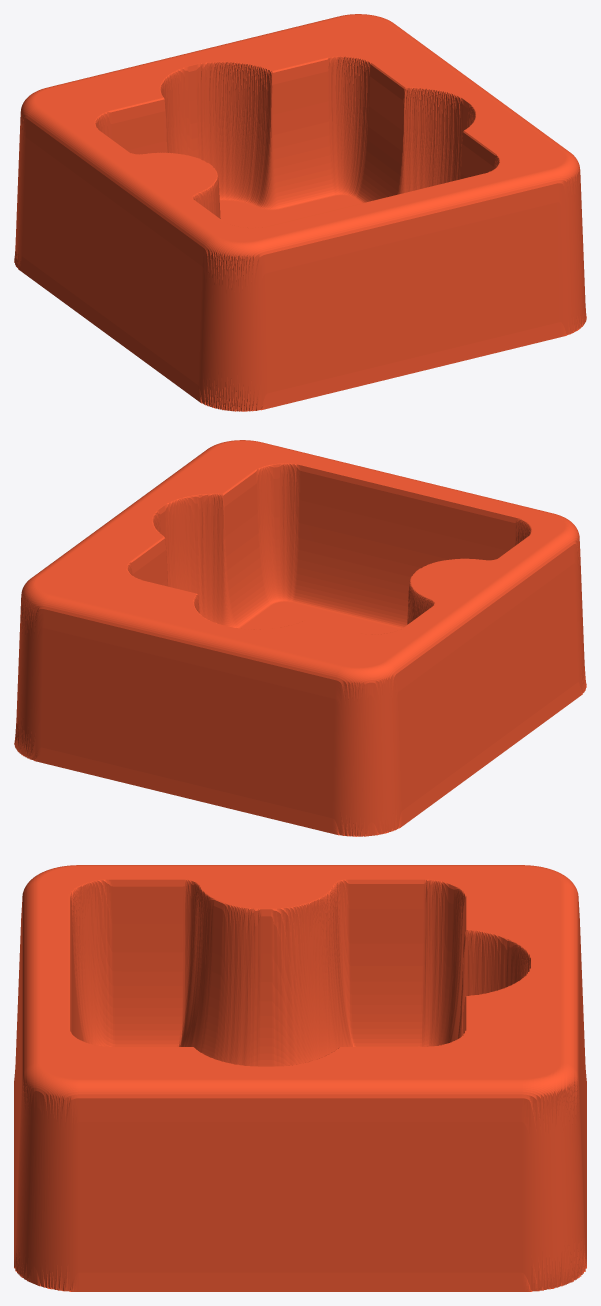
The model's file is mold.glb.
3 renders of one model, top to bottom at view 1: azimuth 30°, elevation 25°; view 2: azimuth 150°, elevation 25°; view 3: azimuth 270°, elevation 25°, orthographic. The views are drawn at different scales.
Parts seen in each view (by area): view 1: geometry_0; view 2: geometry_0; view 3: geometry_0.
Boxes of the visible parts, x1,y1,x2,y2 form: geometry_0: [14, 14, 586, 411]; geometry_0: [14, 440, 586, 836]; geometry_0: [14, 865, 586, 1291].
Bounding box in the file's own units: 0.0772 × 0.031 × 0.0798.
